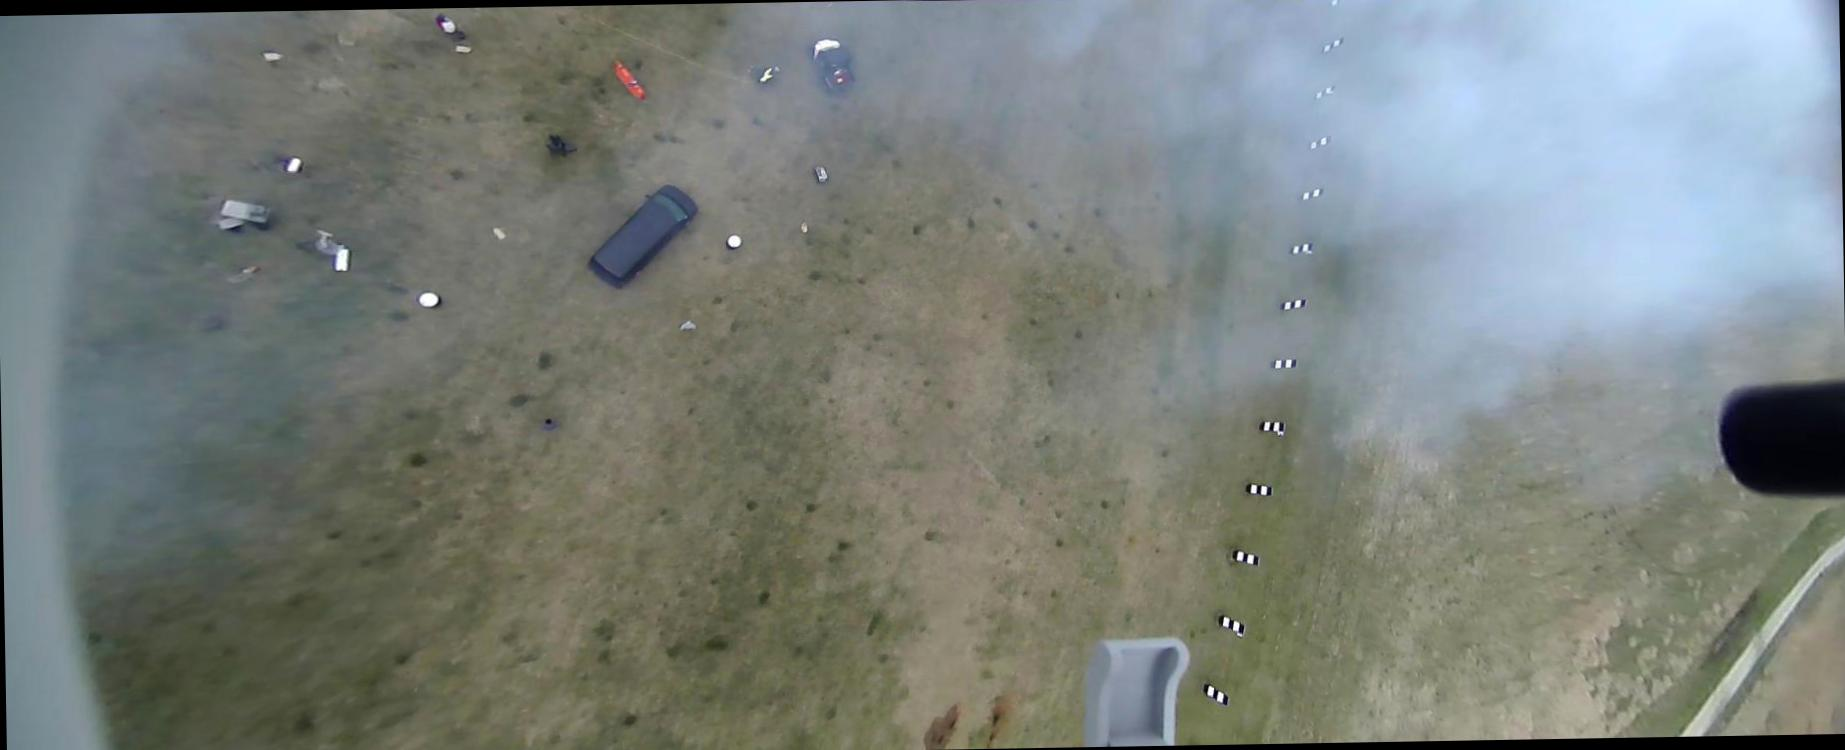vehicle: (585, 184, 699, 291), (802, 36, 855, 97)
